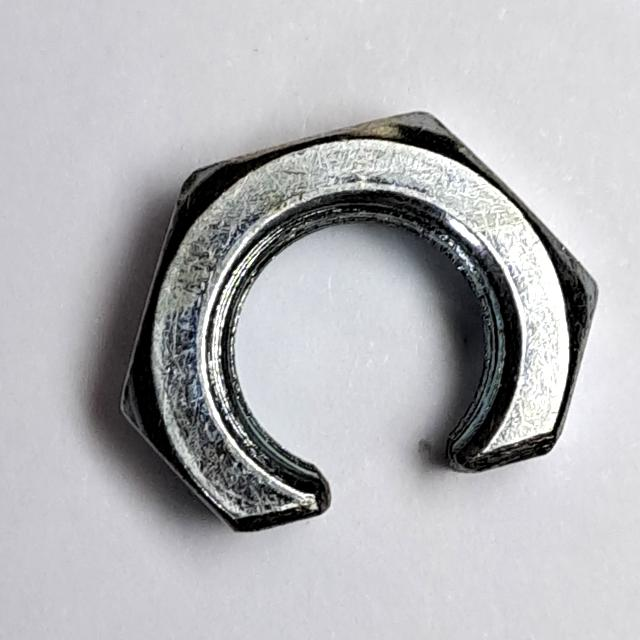Fracture: (100, 94, 614, 555)
